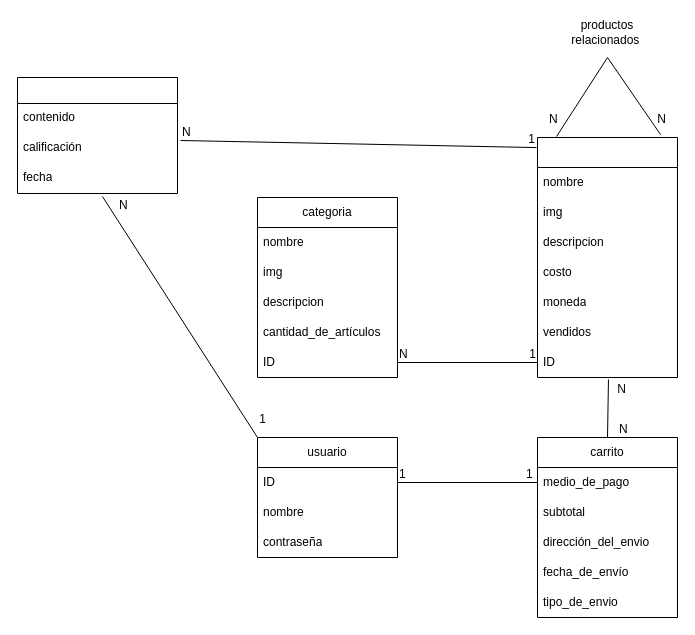
Some shapes in this 695 by 635 pixel diagram are drawn without their labels. Each missing label, with the box of its shape:
comentario: (16, 76, 178, 194)
producto: (536, 136, 678, 378)
